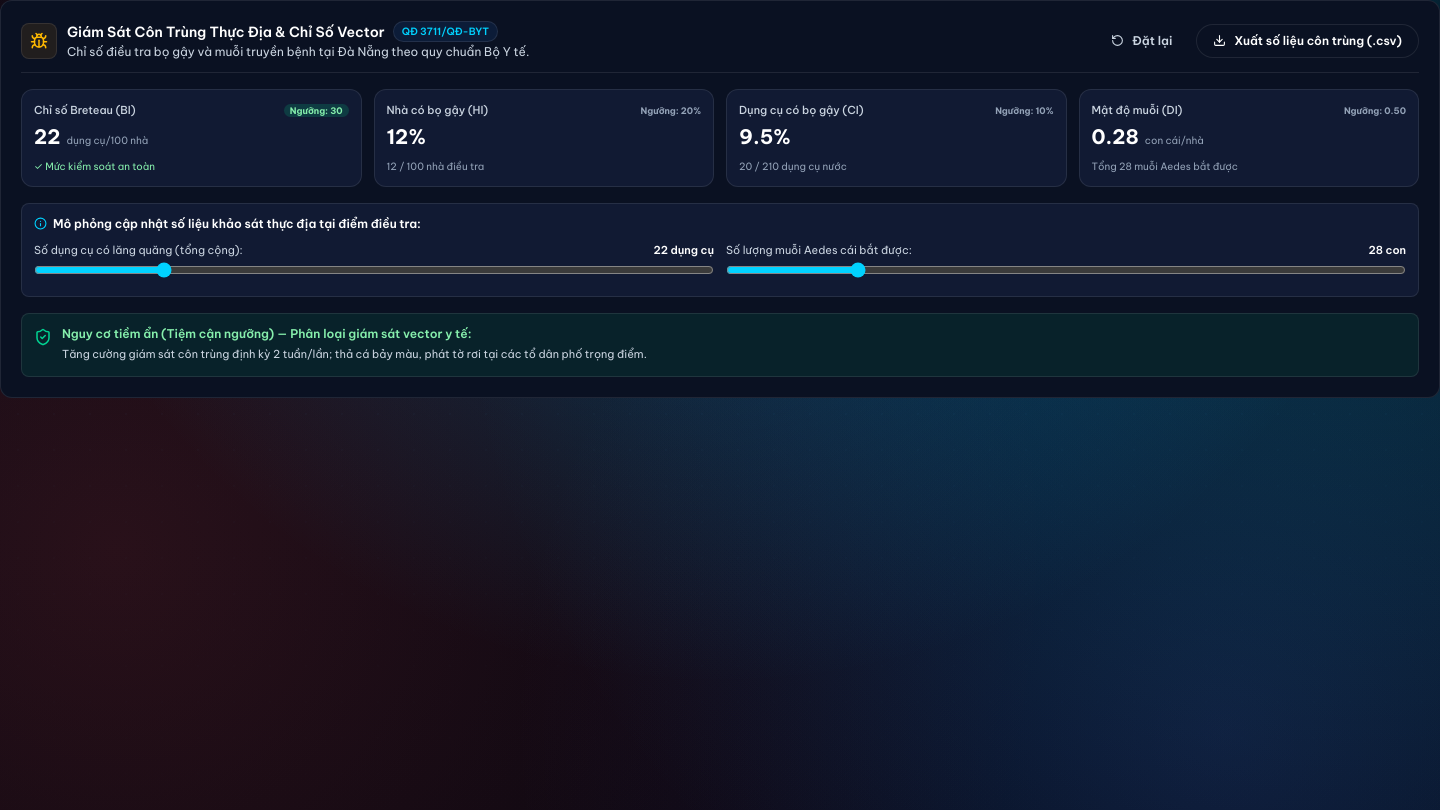
Test: VectorSurveillanceCard Component › updates indices when adjusting simulation slider
The width and height of the screenshot is (1440, 810).
Set the slider labelled "Số dụng cụ có lăng quăng (tổng cộng):" to "85" at (512, 270), box [34,262,714,278]
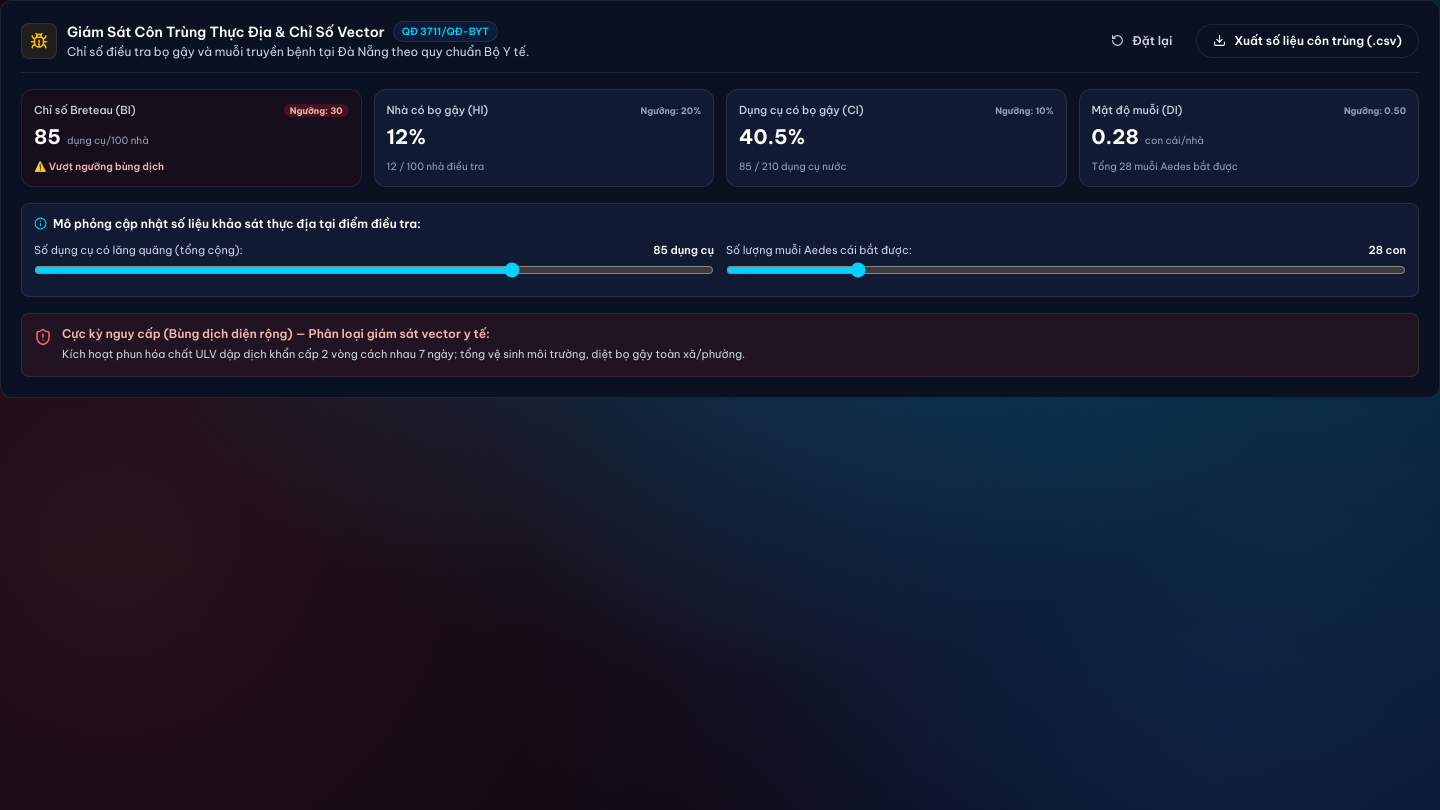
Result: the text "85 dụng cụ" is shown at [653,242,714,258]
Result: the text "85" is shown at [34,122,61,150]
